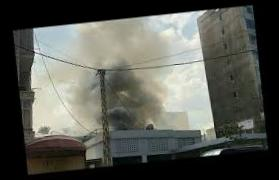Smoke: (60, 17, 170, 136)
